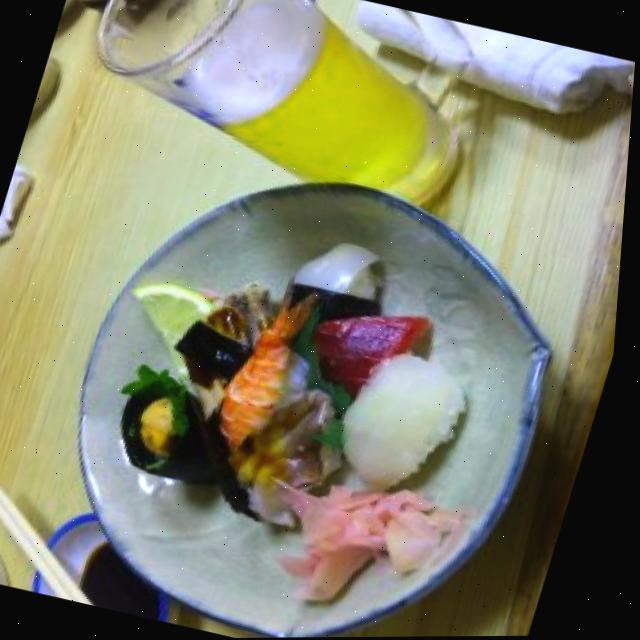寿司卷物: (7, 129, 597, 640)
